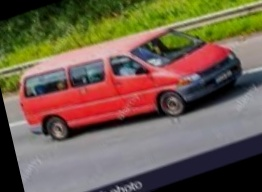van: (0, 0, 257, 167)
